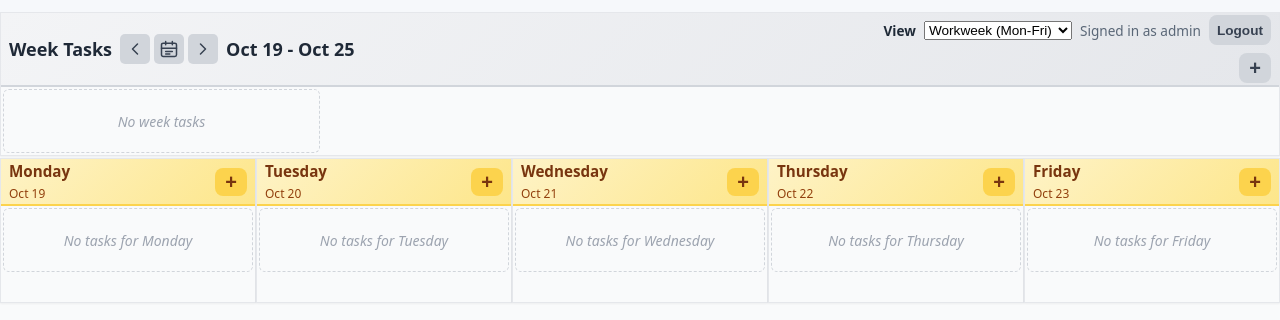
Test: BoardPage week navigation › switches between workweek and full-week columns and persists the mode
Expected: the text "No tasks for Monday" is shown 5 times, x1=64 y1=230 x2=192 y2=250; x1=320 y1=230 x2=448 y2=250; x1=566 y1=230 x2=714 y2=250; x1=828 y1=230 x2=964 y2=250; x1=1094 y1=230 x2=1210 y2=250
Expected: the header "View" is shown, x1=1 y1=13 x2=1279 y2=87
Select "Full week (Mon-Sun)" in the dropdown labelled "View" at (998, 30), box x1=924 y1=20 x2=1072 y2=40
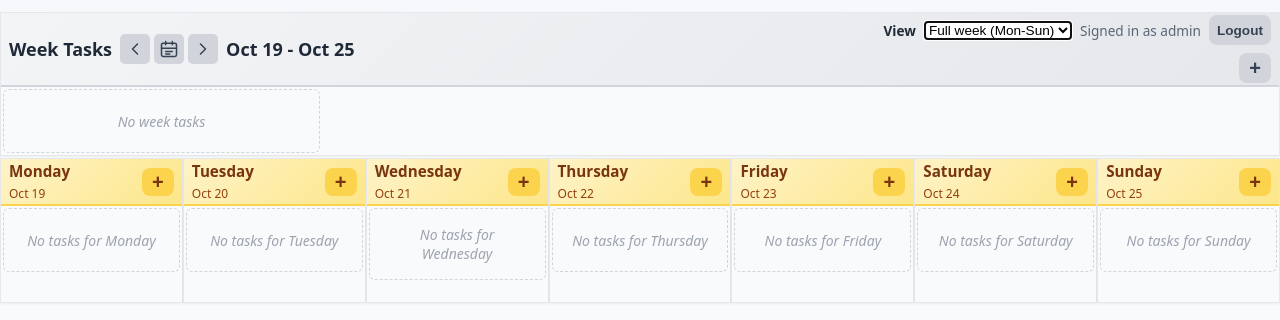
Expected: the text "No tasks for Monday" is shown 7 times
